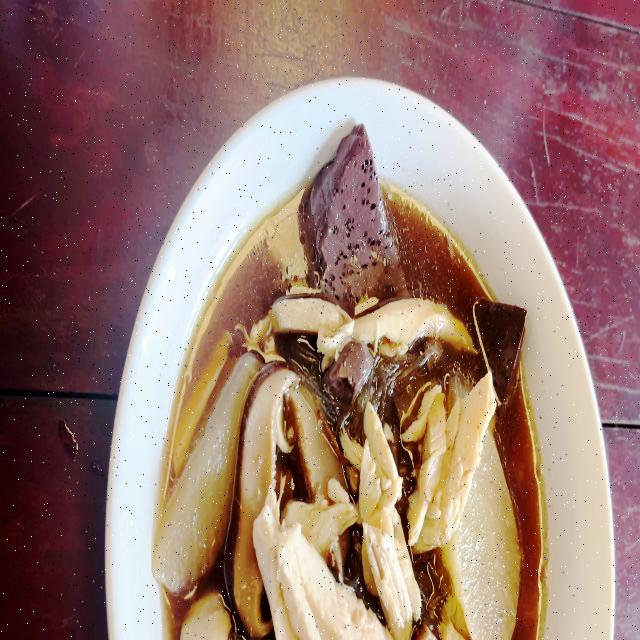boiled_chicken_blood_jelly: (297, 107, 398, 296), (480, 298, 528, 376), (325, 335, 377, 391)
chicken_shredded: (403, 372, 498, 552), (257, 497, 371, 640), (366, 414, 411, 628), (351, 292, 465, 350), (268, 295, 352, 353)
daikon_radish: (148, 360, 245, 582), (467, 481, 517, 637)
noodle: (155, 184, 544, 640)
